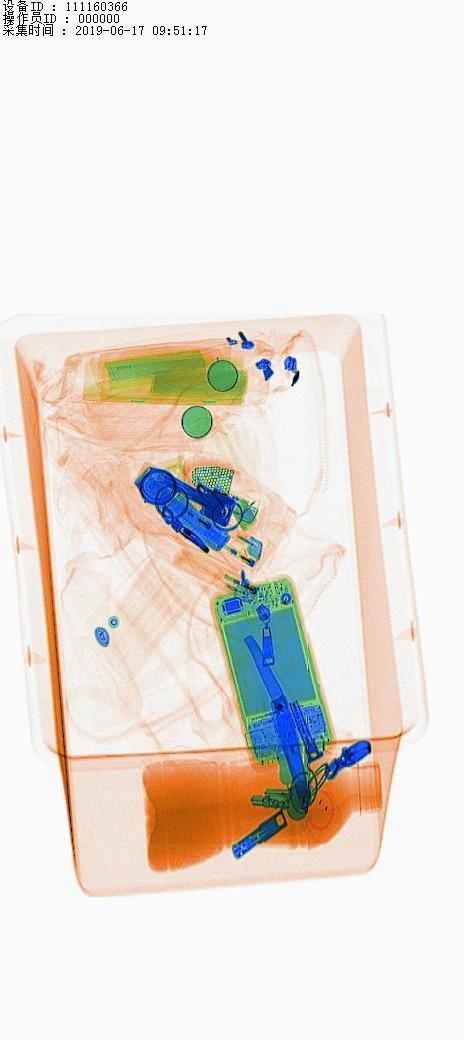NonmetallicFire: (150, 456, 301, 603)
